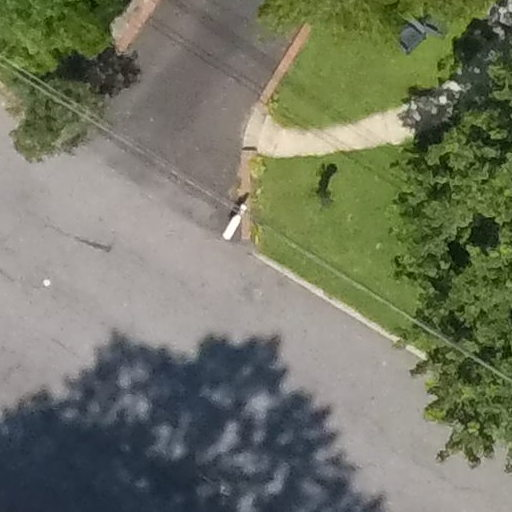container: (422, 14, 449, 41)
